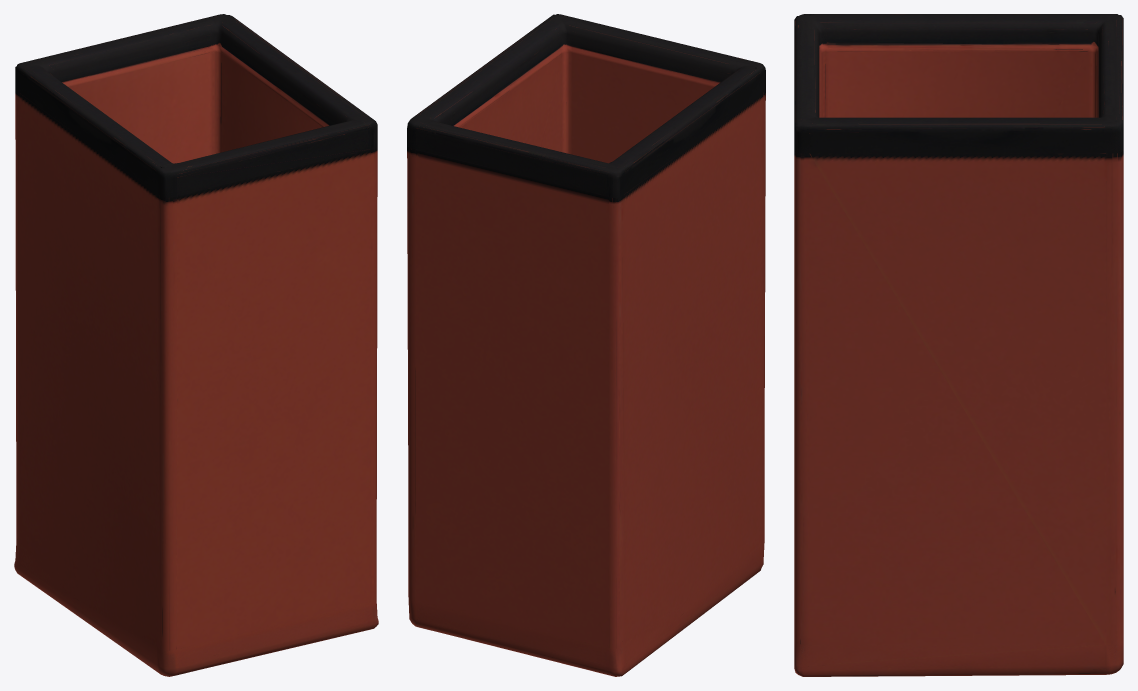
The model's file is Meshy_AI_Brown_Square_Planter_0610000455_texture.fbx.
3 renders of one model, left to right at view 1: azimuth 30°, elevation 25°; view 2: azimuth 150°, elevation 25°; view 3: azimuth 270°, elevation 25°, orthographic. The views are drawn at different scales.
Parts seen in each view (by area): view 1: Mesh_0; view 2: Mesh_0; view 3: Mesh_0.
Boxes of the visible parts, x1=… form: Mesh_0: x1=14, y1=14, x2=378, y2=676; Mesh_0: x1=407, y1=14, x2=765, y2=676; Mesh_0: x1=794, y1=14, x2=1123, y2=676.
Size of the model in its own units: 84.93 by 191 by 103.
Materials: 1 (1 with a texture image).
